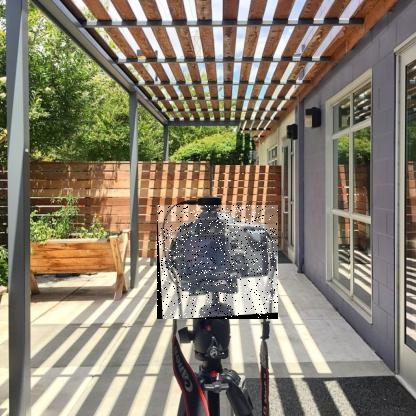Camera: (158, 206, 280, 321)
